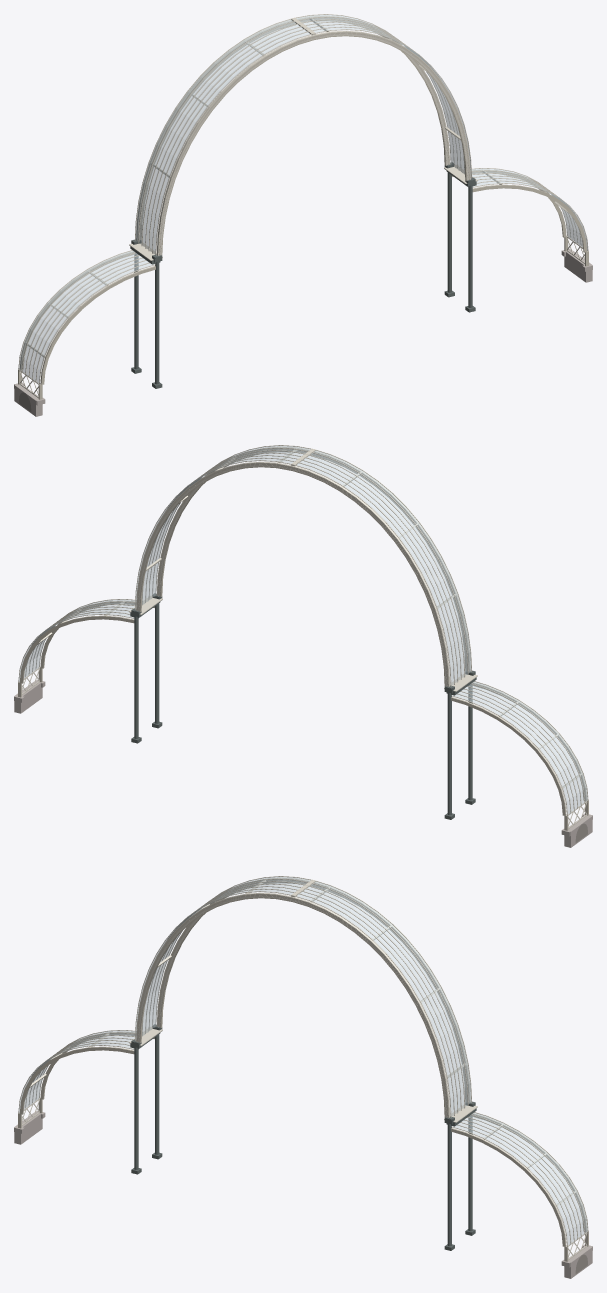
3 views of the same model, one above another, from view 1: azimuth 30°, elevation 25°; view 2: azimuth 150°, elevation 25°; view 3: azimuth 330°, elevation 25° (orthographic).
Visible parts, largest first — view 1: Ribs_Central_Laminated, GlassCentral, Ironwork_Pillars_Gutters, PlinthWalls; view 2: Ribs_Central_Laminated, GlassCentral, Ironwork_Pillars_Gutters, PlinthWalls; view 3: Ribs_Central_Laminated, GlassCentral, Ironwork_Pillars_Gutters, PlinthWalls.
Boxes of the visible parts, <box> form: Ribs_Central_Laminated: <box>18,14,588,399</box>; GlassCentral: <box>19,15,587,383</box>; Ironwork_Pillars_Gutters: <box>130,162,476,388</box>; PlinthWalls: <box>14,248,592,416</box>; Ribs_Central_Laminated: <box>18,445,588,830</box>; GlassCentral: <box>19,446,587,814</box>; Ironwork_Pillars_Gutters: <box>130,593,476,819</box>; PlinthWalls: <box>14,679,592,847</box>; Ribs_Central_Laminated: <box>18,876,588,1261</box>; GlassCentral: <box>19,877,587,1245</box>; Ironwork_Pillars_Gutters: <box>130,1024,476,1250</box>; PlinthWalls: <box>14,1110,592,1278</box>.
Size of the model in its own units: 37.91 by 20.52 by 2.88.
Materials: 5 (5 with a texture image).
